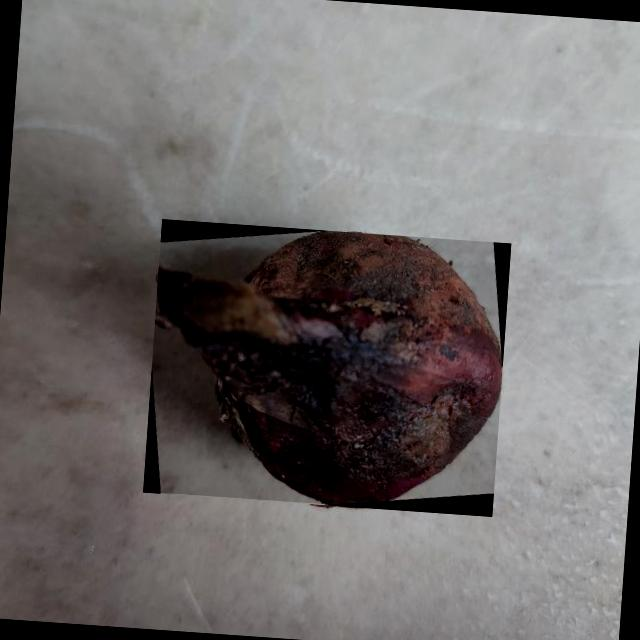rotten: (155, 231, 502, 504)
